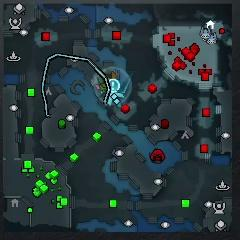Other: (107, 78, 120, 93)
x1: (94, 83, 100, 91)
x3: (107, 91, 124, 106)
x4: (99, 75, 107, 93)
x5: (101, 71, 119, 89)
